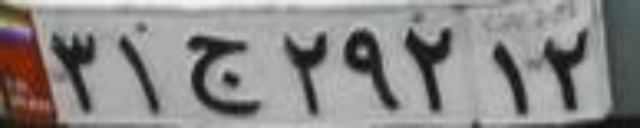1: (115, 33, 164, 113), (486, 39, 529, 114)
2: (537, 26, 591, 110), (403, 22, 450, 111), (279, 28, 323, 114)
3: (48, 29, 103, 113)
9: (340, 26, 398, 109)
jim: (181, 36, 264, 115)
